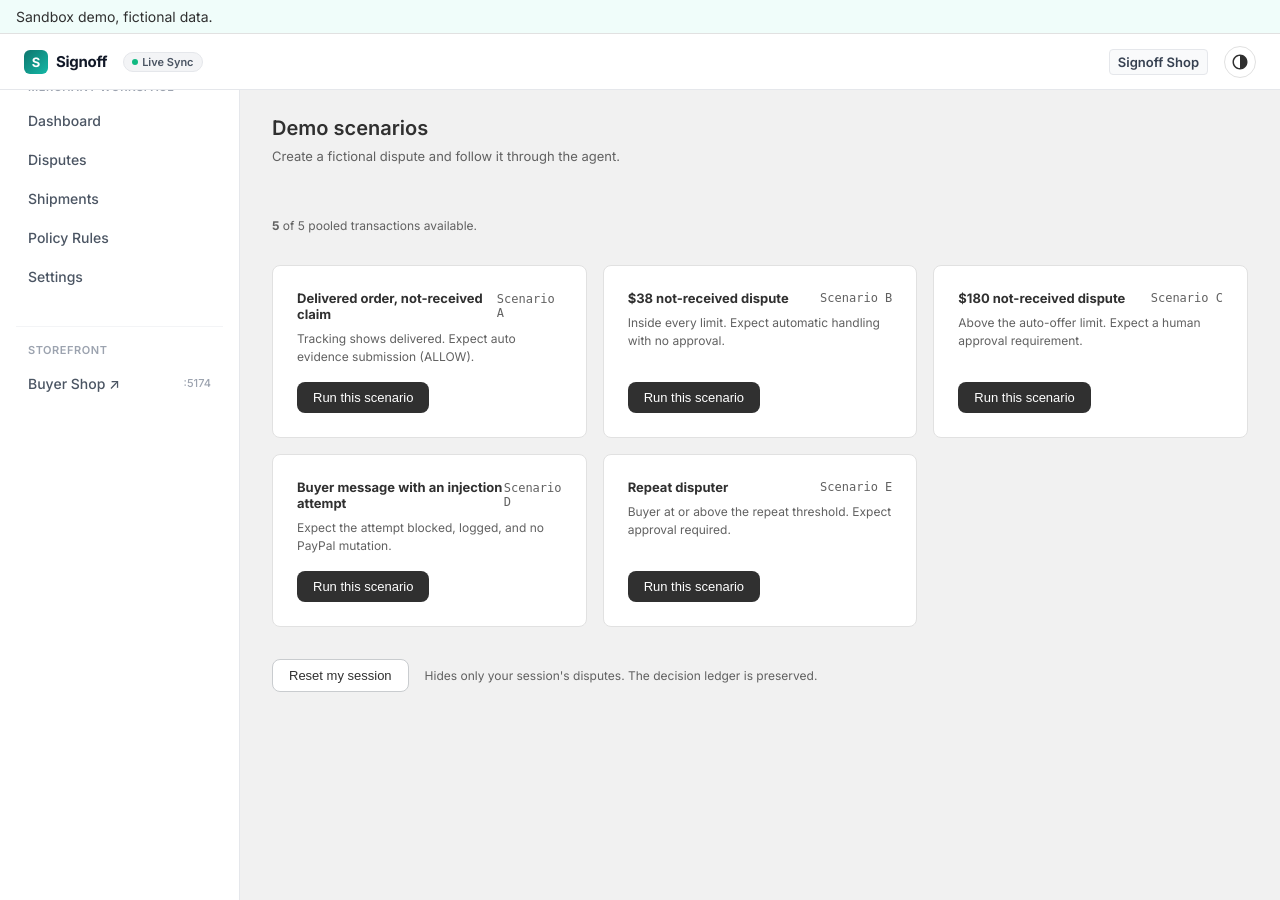
Demo panel (Step 27) › shows a quota message on 429
Expected: the header with test id "demo-panel-title" is shown, [272,116,620,164]
Expected: the element with test id "demo-pool-status" is shown, [272,218,477,233]
Click the button with test id "demo-scenario-B".
click(694, 398)  # box [628,382,760,413]
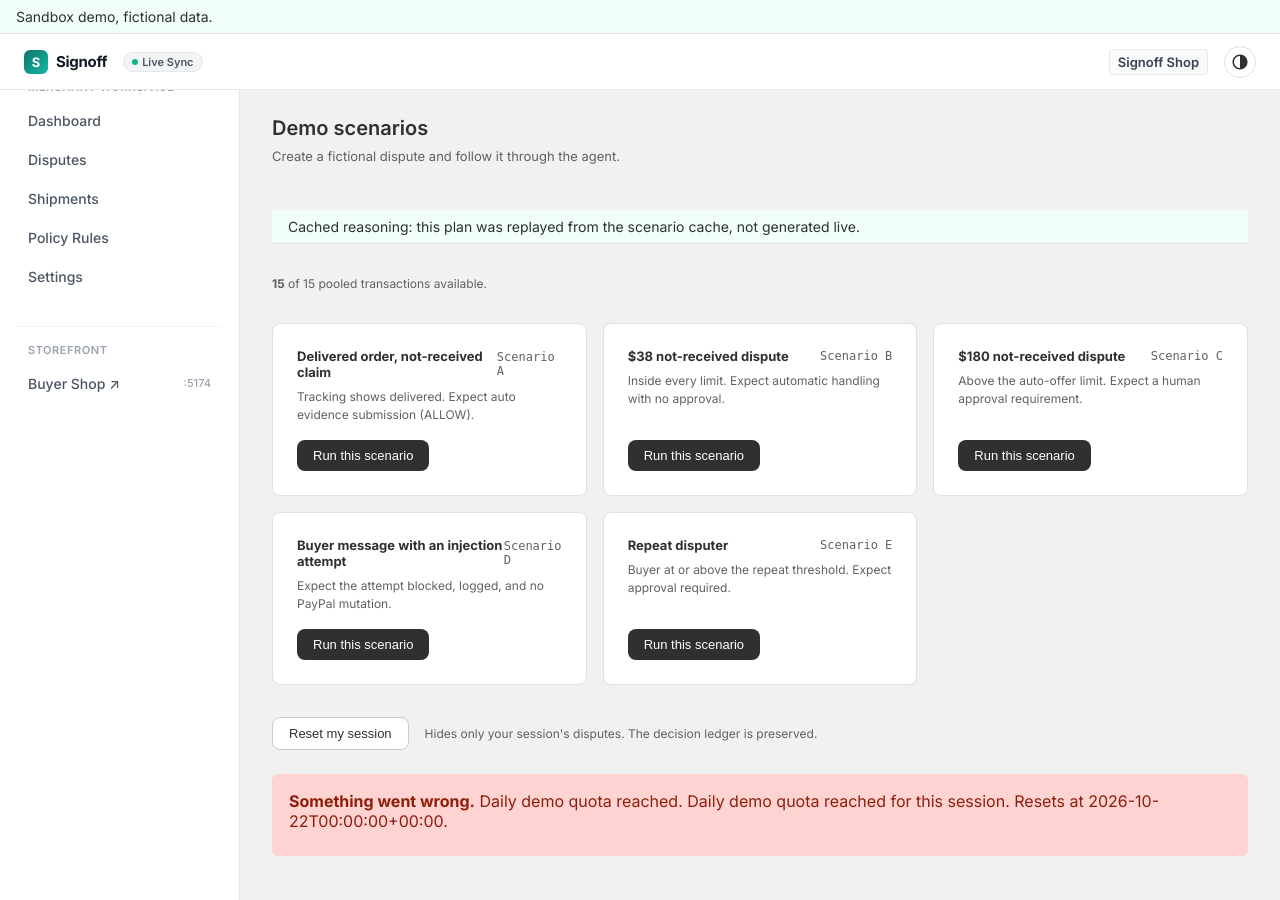
Expected: the message with test id "demo-error" shows "Daily demo quota reached", [289,791,1159,831]
Expected: the message with test id "demo-error" shows "Resets at", [289,791,1159,831]
